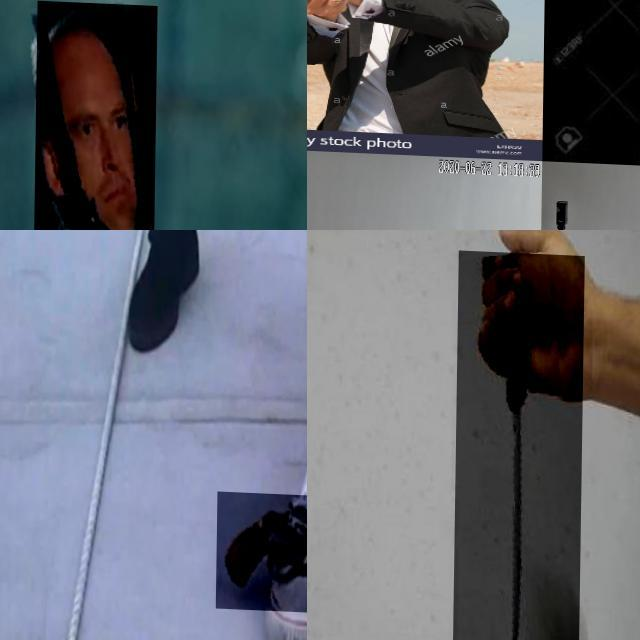-: (453, 247, 585, 640)
gun-knife-thesis - v11 Yolov5 augmented: (33, 0, 157, 230), (217, 488, 307, 610), (307, 0, 354, 24)
